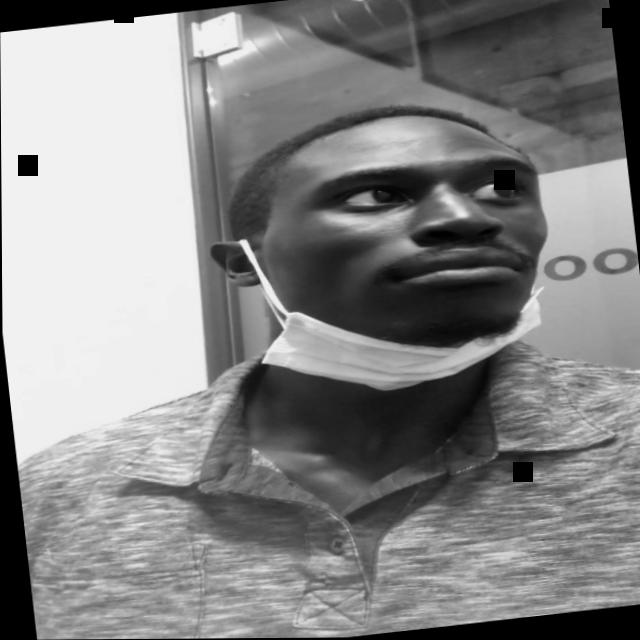NO-Mask: (244, 112, 556, 363)
